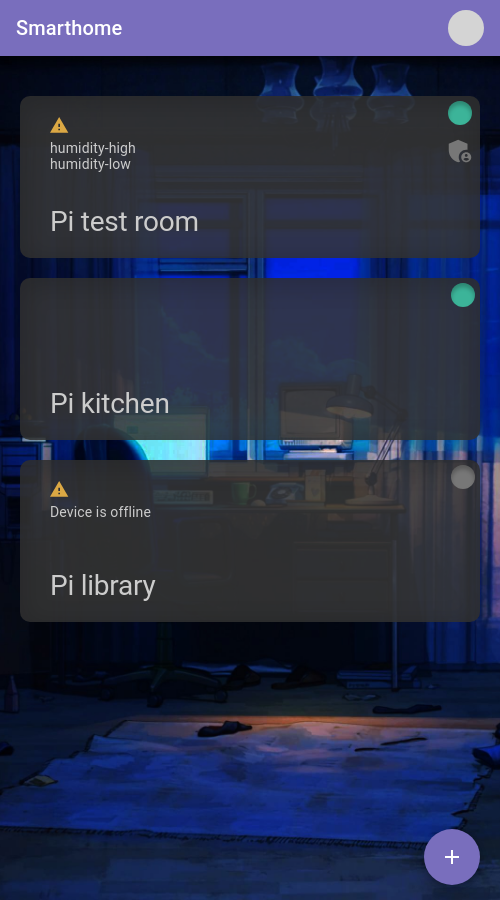
it: App component › pairing device
This screenshot has width=500, height=900.
Click the button with test id "pair-device-button": (452, 857) top-left (424, 829), bottom-right (480, 885)
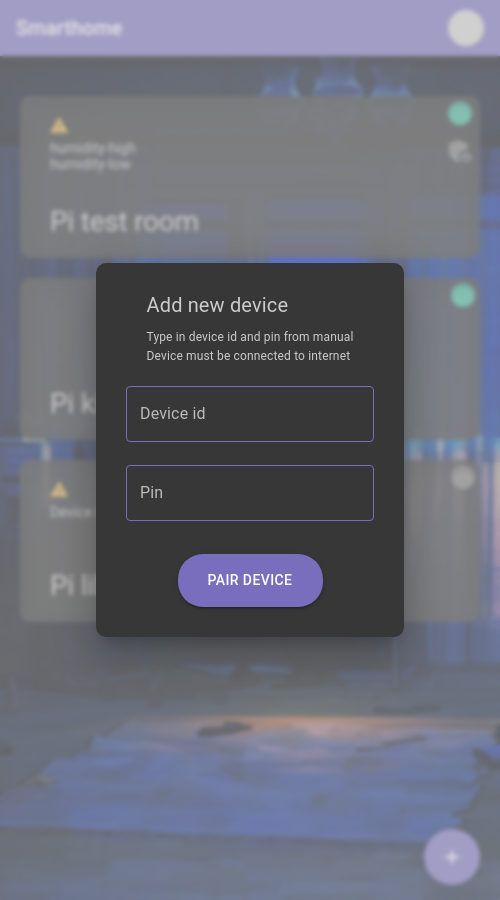
Click the element with test id "pair-device-id": (250, 414) top-left (126, 386), bottom-right (374, 442)
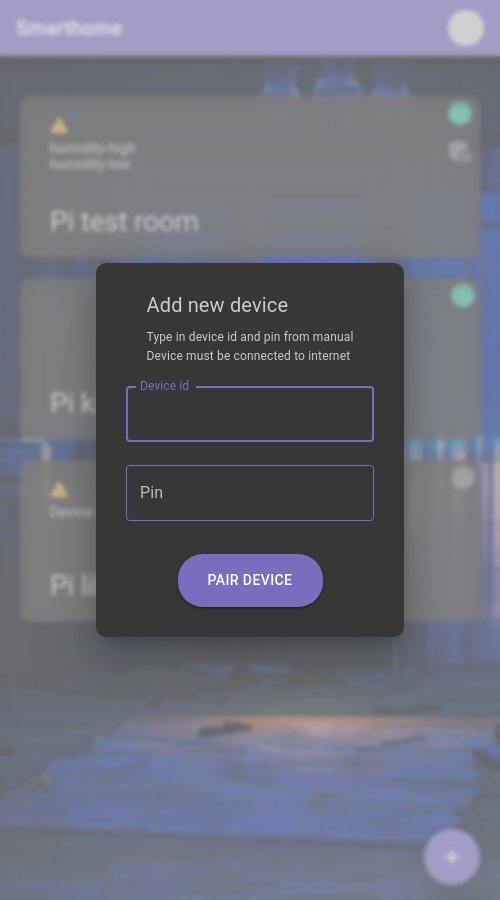
In the element with test id "pair-device-id": (250, 414) top-left (126, 386), bottom-right (374, 442), type "idtestid"
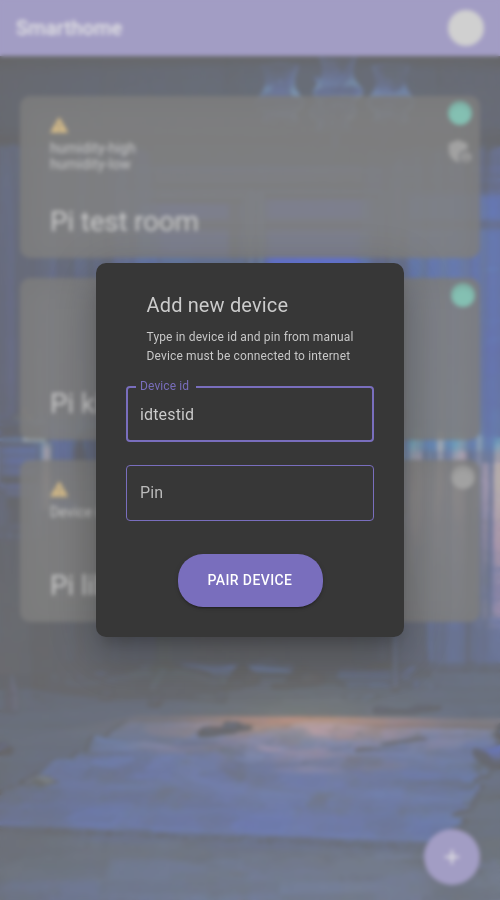
Click the element with test id "pair-device-pin": (250, 493) top-left (126, 465), bottom-right (374, 521)
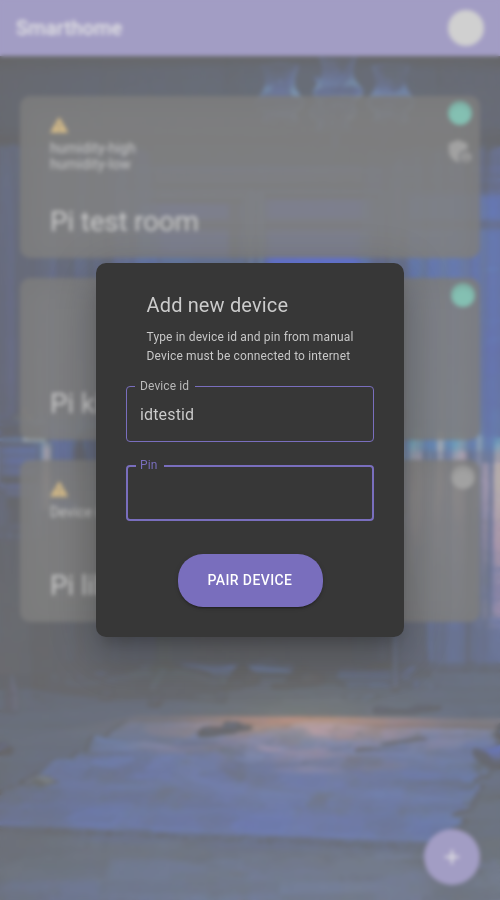
In the element with test id "pair-device-pin": (250, 493) top-left (126, 465), bottom-right (374, 521), type "pintest"
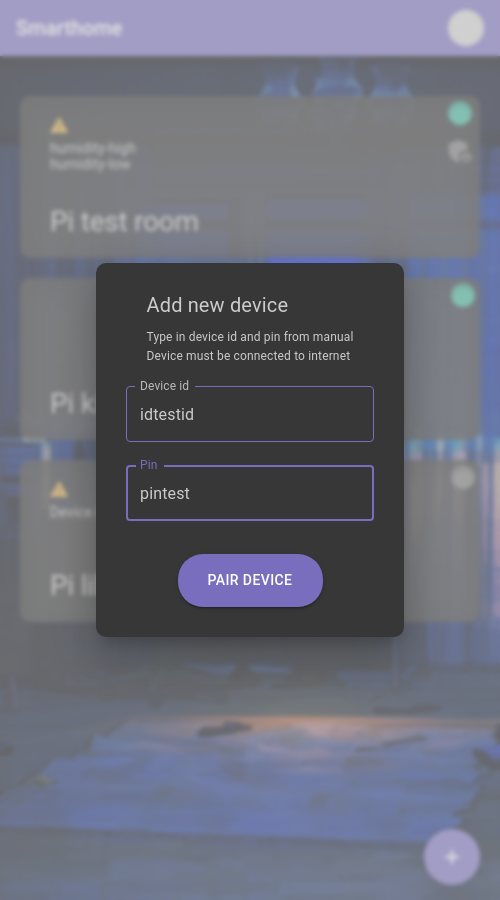
Now the button with test id "confirm-pair-device-button" is shown
Click the button with test id "confirm-pair-device-button": (251, 581) top-left (178, 554), bottom-right (323, 607)
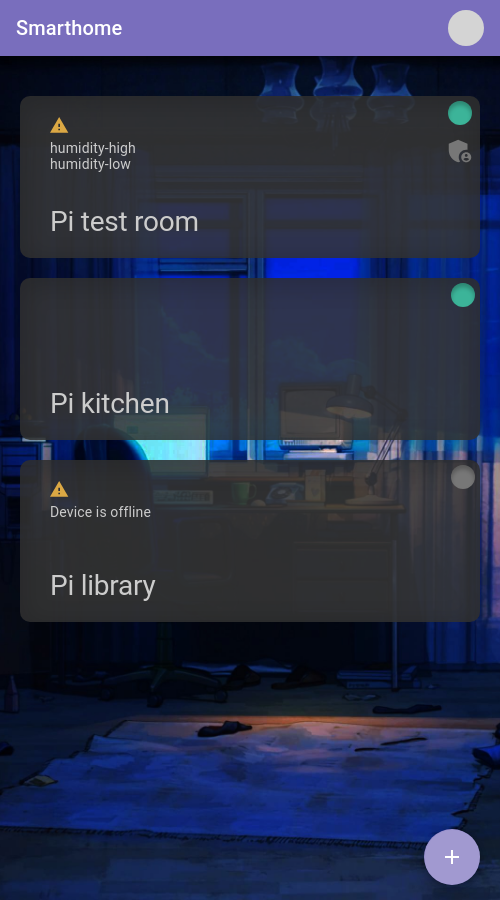
Now the element with test id "pair-device-dialog" is gone
